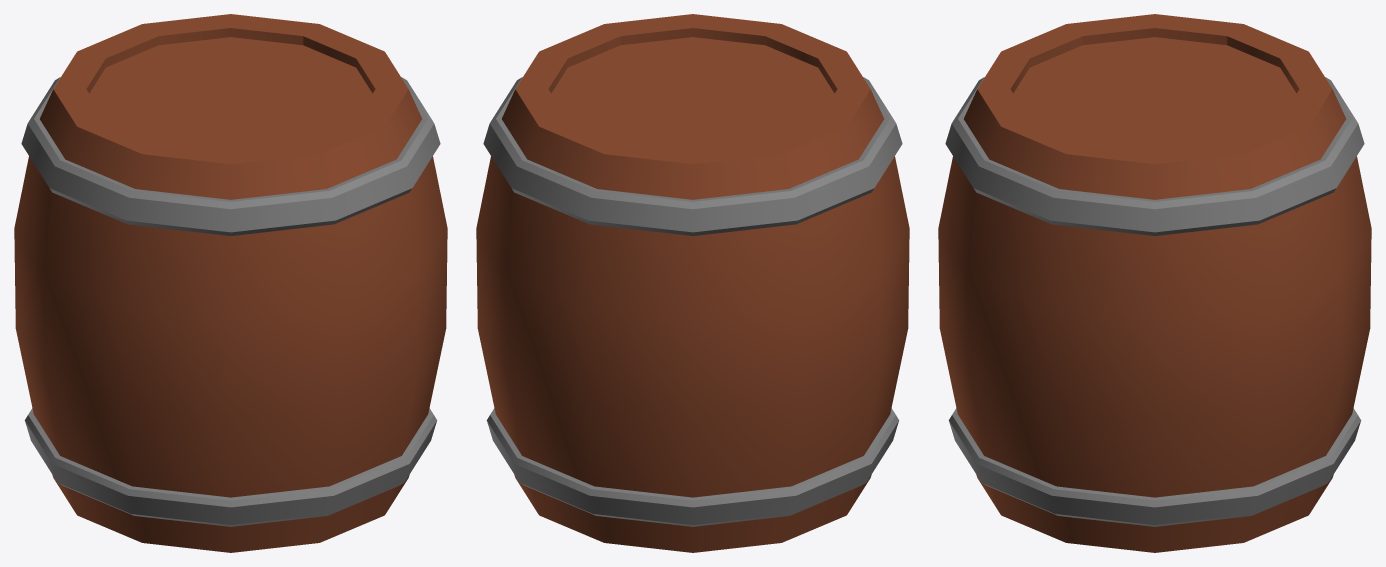
The model's file is SM_Barrel.fbx.
The picture shows the model from 3 angles, left to right: view 1: azimuth 30°, elevation 25°; view 2: azimuth 150°, elevation 25°; view 3: azimuth 270°, elevation 25°; orthographic projection.
Visible parts, largest first — view 1: Barrel; view 2: Barrel; view 3: Barrel.
Part boxes in pixels (<box>): Barrel: <box>14,14,447,552</box>; Barrel: <box>476,14,909,552</box>; Barrel: <box>938,14,1371,552</box>.
Bounding box in the file's own units: 83.32 × 83.32 × 82.5.
